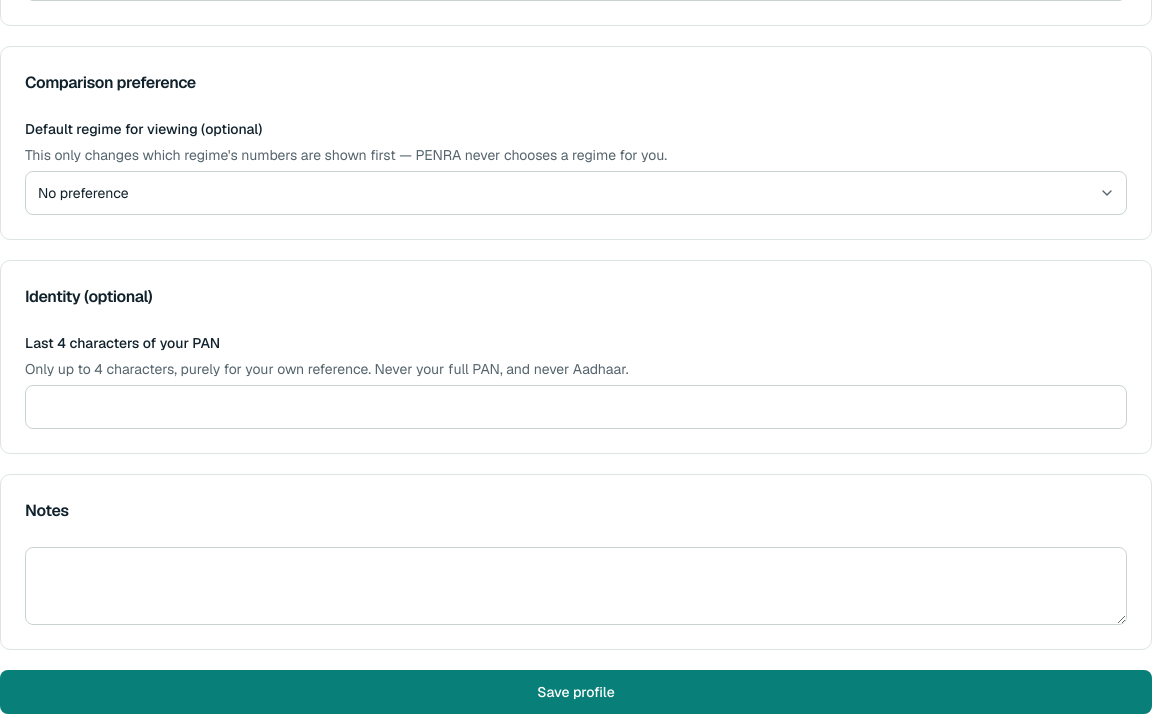
TaxProfileForm — validation › shows a successful save confirmation
This screenshot has width=1152, height=714.
(page scrolled)
What coordinates should you click on to do the following:
click the button "Save profile"
I would click on:
 (576, 692)
Its box is [0,670,1151,713].
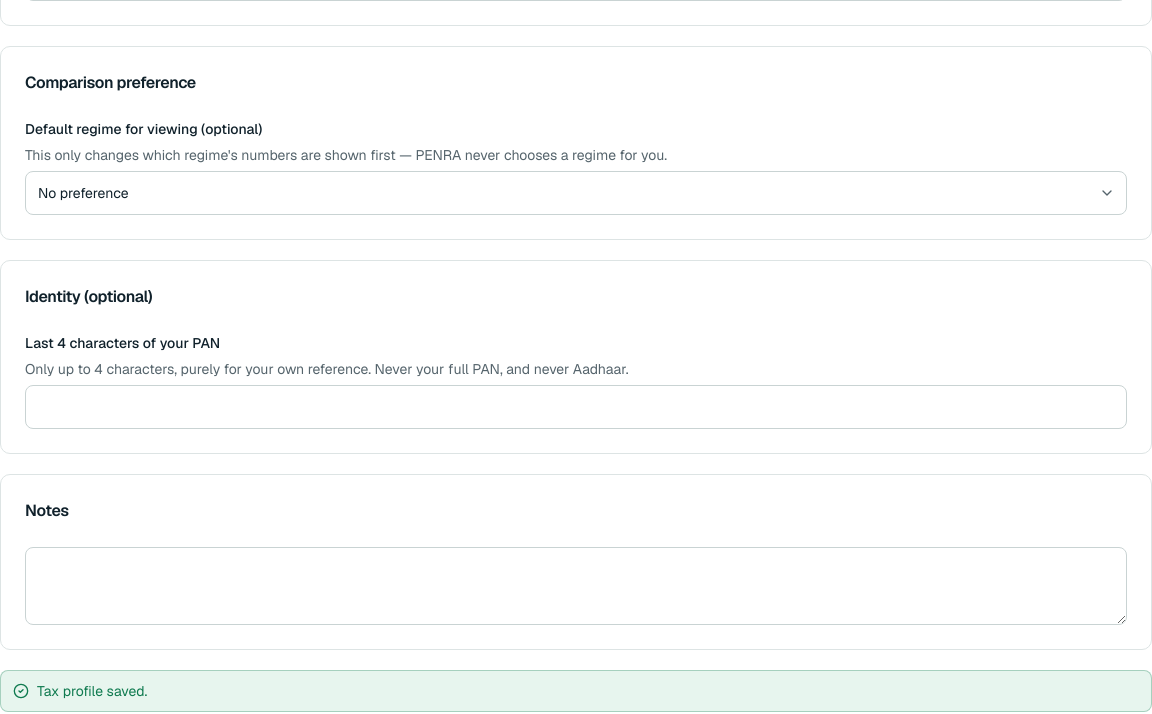
Expected: the text "Tax profile saved." is shown, [37,681,147,701]
